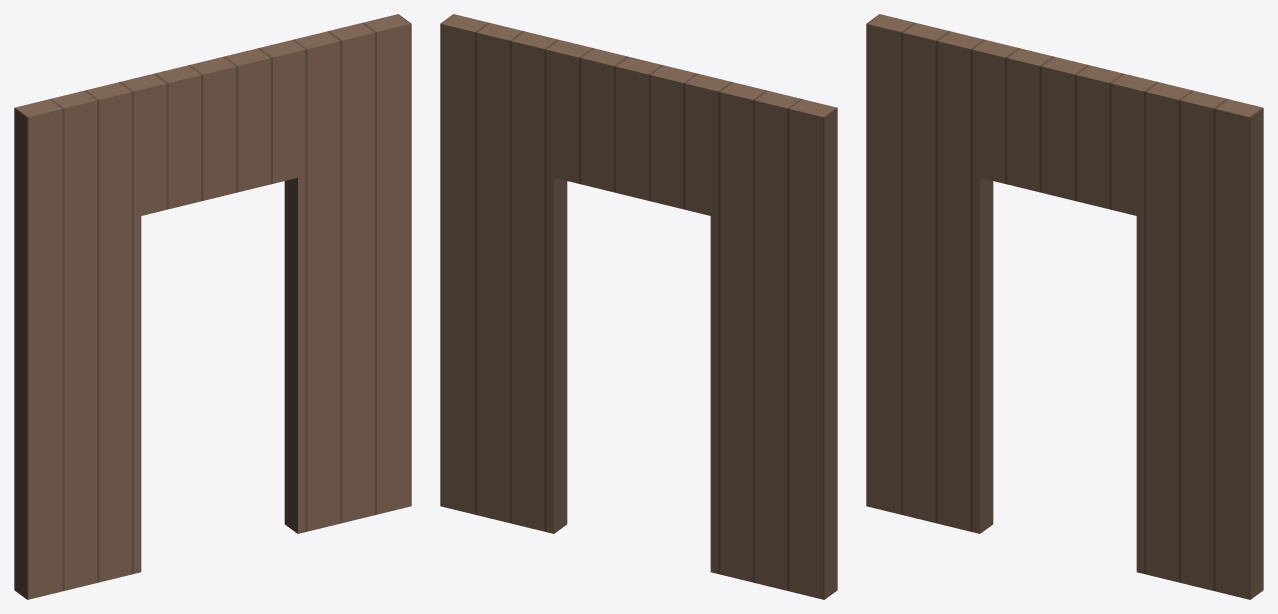
File: Wall1_C9_17.fbx
The picture shows the model from 3 angles, left to right: view 1: azimuth 30°, elevation 25°; view 2: azimuth 150°, elevation 25°; view 3: azimuth 330°, elevation 25°; orthographic projection.
Parts seen in each view (by area): view 1: Wall1_C9_17; view 2: Wall1_C9_17; view 3: Wall1_C9_17.
Boxes of the visible parts, bbox=[...] form: Wall1_C9_17: bbox=[14, 14, 411, 599]; Wall1_C9_17: bbox=[440, 14, 837, 599]; Wall1_C9_17: bbox=[866, 14, 1263, 599].
Size of the model in its own units: 250 by 300 by 15.
